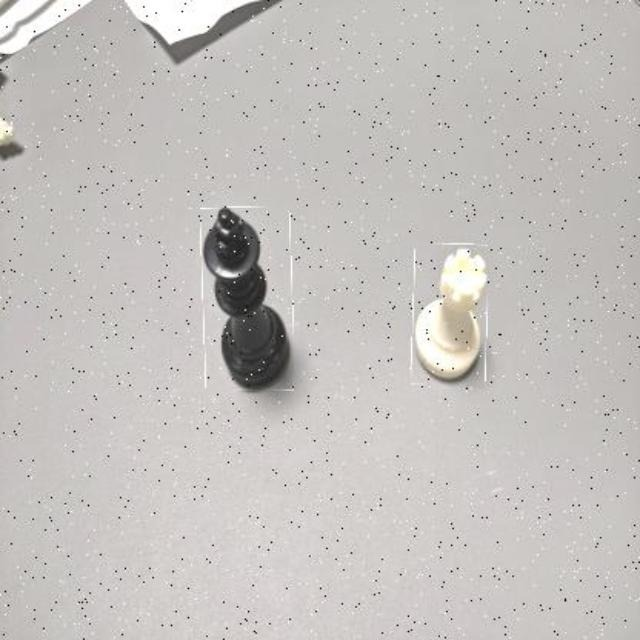black-king: (202, 207, 294, 393)
white-rook: (413, 244, 488, 385)
